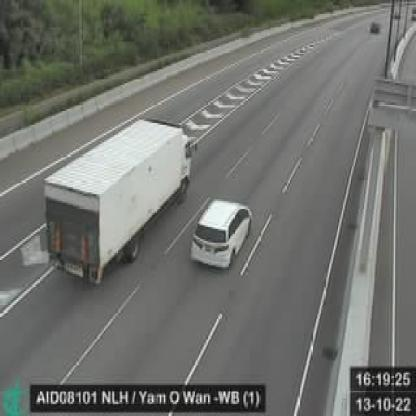Car: (192, 195, 256, 272), (369, 20, 380, 35)
Truck: (43, 122, 191, 290)
